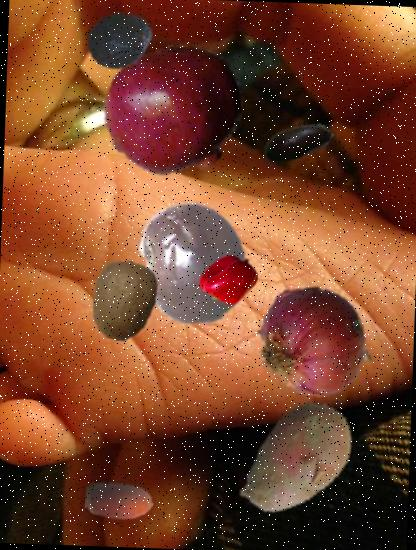Avocado: (85, 4, 155, 74)
Eggplant: (260, 104, 337, 180)
Hazelnut: (84, 467, 155, 538)
Kiwi: (82, 258, 167, 344)
Onion: (240, 276, 374, 410)
Passion: (128, 198, 258, 328)
Pepper: (201, 251, 258, 308)
Pomegranate: (102, 38, 248, 184)
Potato: (233, 394, 366, 528)
